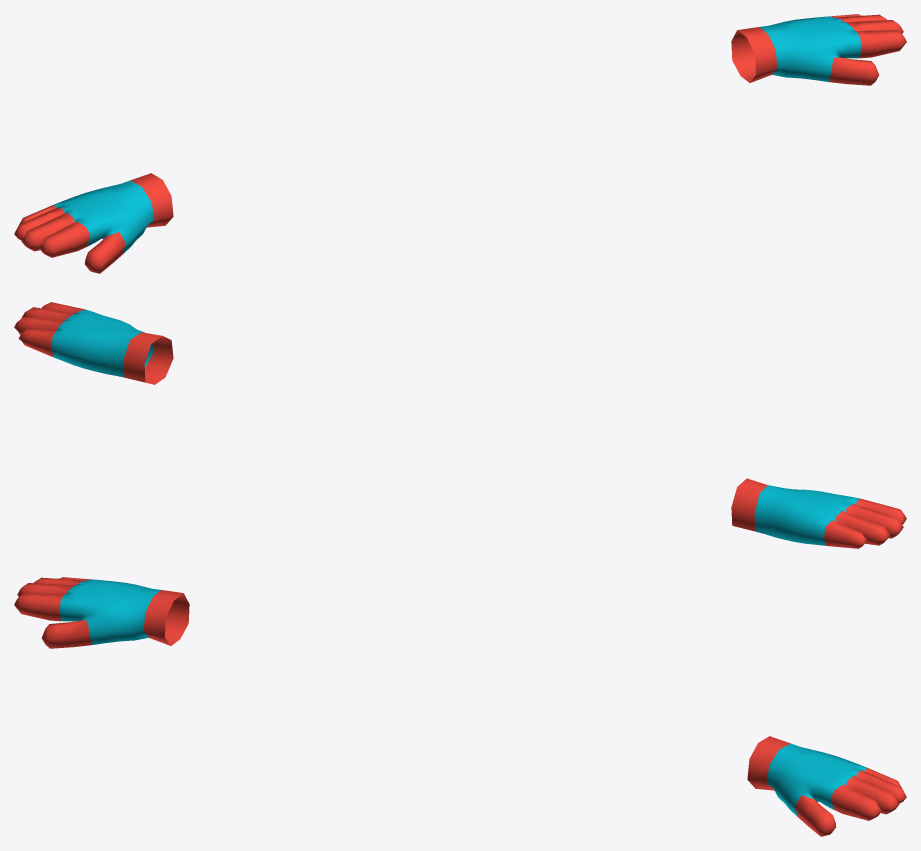
The model's file is Glove_017.glb.
3 views of the same model, one above another, from view 1: azimuth 30°, elevation 25°; view 2: azimuth 150°, elevation 25°; view 3: azimuth 330°, elevation 25° (orthographic).
Visible parts, largest first — view 1: Glove_017; view 2: Glove_017; view 3: Glove_017.
Boxes of the visible parts, box(x1,y1,x2,y2) form: Glove_017: box(14, 14, 906, 273); Glove_017: box(14, 302, 906, 548); Glove_017: box(14, 577, 906, 836).
Bounding box in the file's own units: 1.82 × 0.0986 × 0.182.
Materials: 1 (1 with a texture image).
